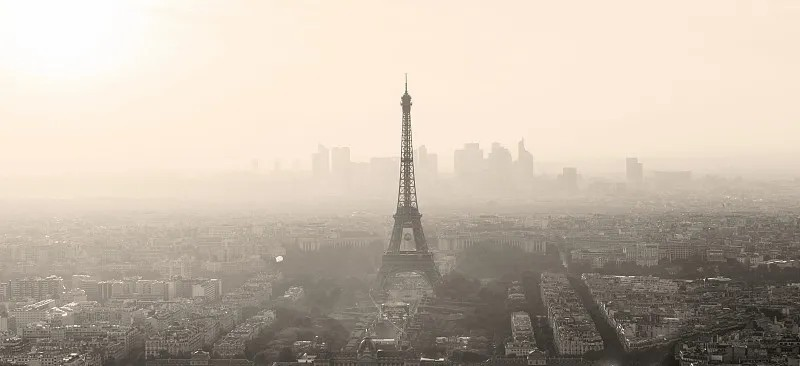Eiffel: (369, 73, 443, 295)
